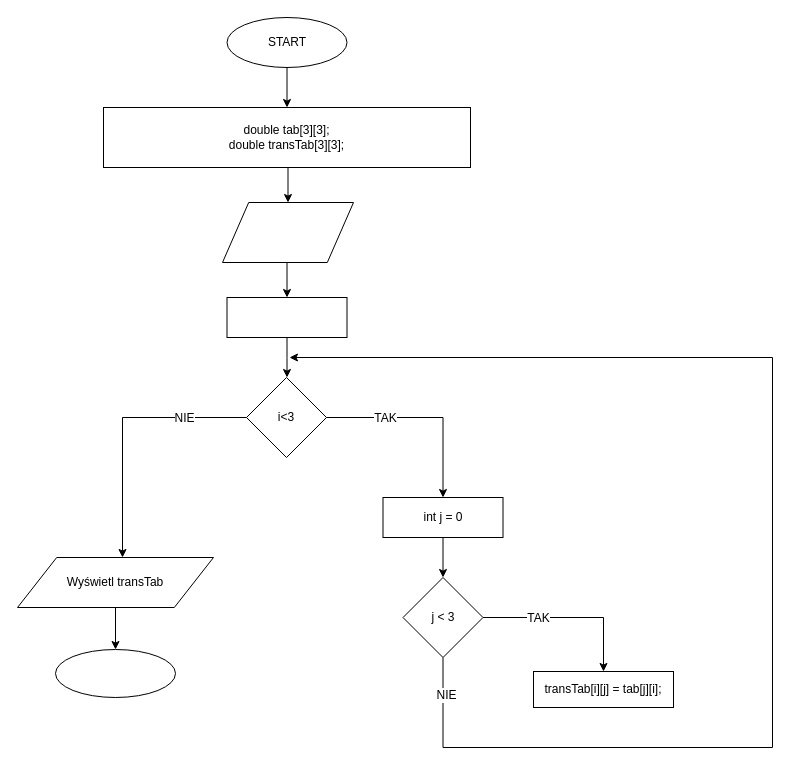
Image size: 798x773. Some labels were removed from this diagram. Each missing label, with the centre of its shape:
"int i = 0" goes at point 286,317.
"STOP" goes at point 115,673.
"Wczytaj tab" goes at point 288,232.
